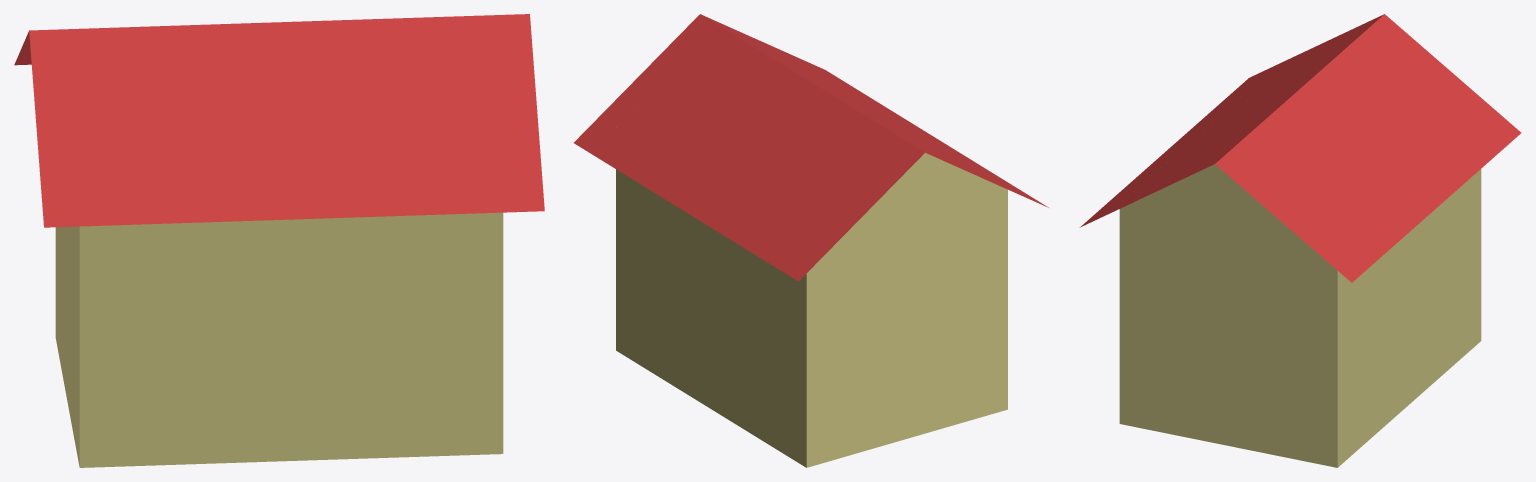
3 views of the same model, side by side, from view 1: azimuth 30°, elevation 25°; view 2: azimuth 150°, elevation 25°; view 3: azimuth 270°, elevation 25° (orthographic). The views are drawn at different scales.
Bounding box in the file's own units: 16 × 14.58 × 10.67.
